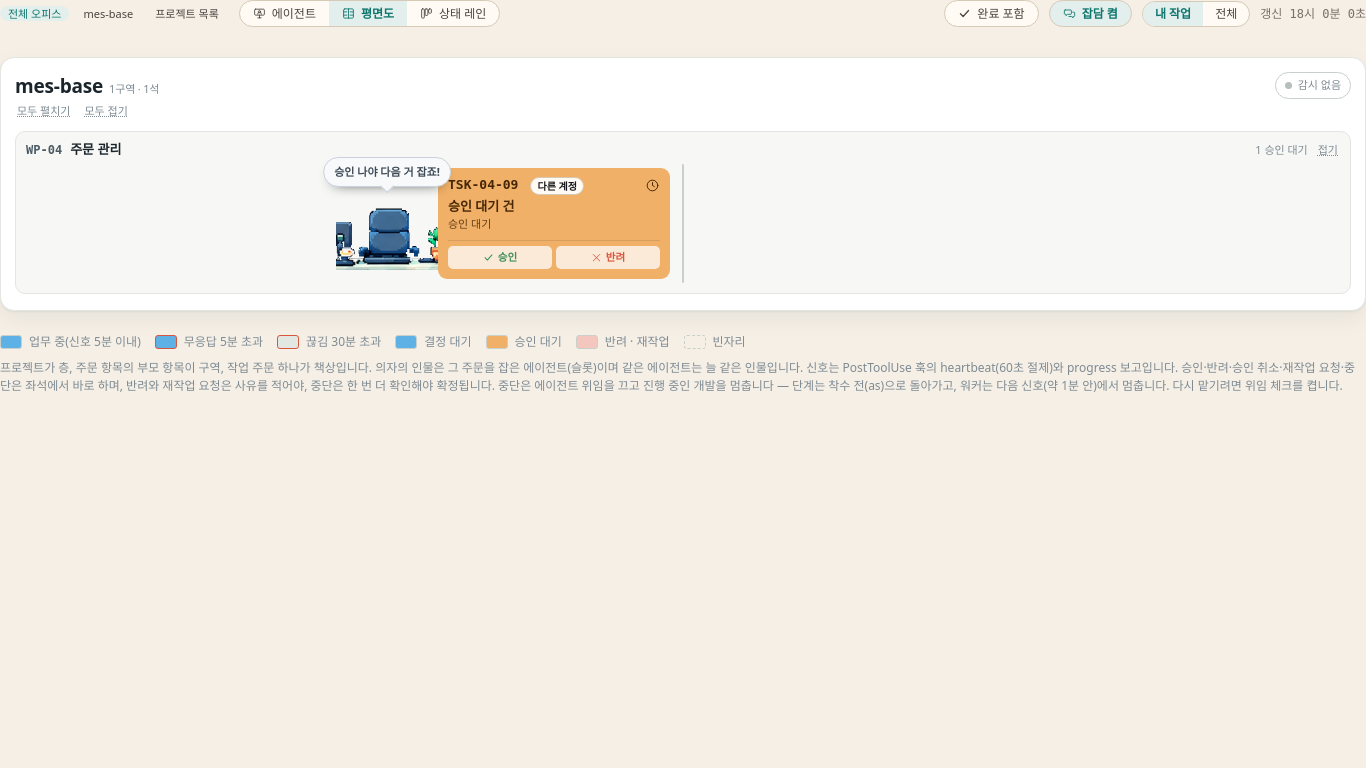
Scenario: SeatmapView — 좌석에서 바로 결재 › 반려는 사유를 받아야 하므로 상세 팝업을 열고, 곧바로 서버를 부르지 않는다
Click the button "반려". click: click(608, 257)
box: [556,246,660,269]
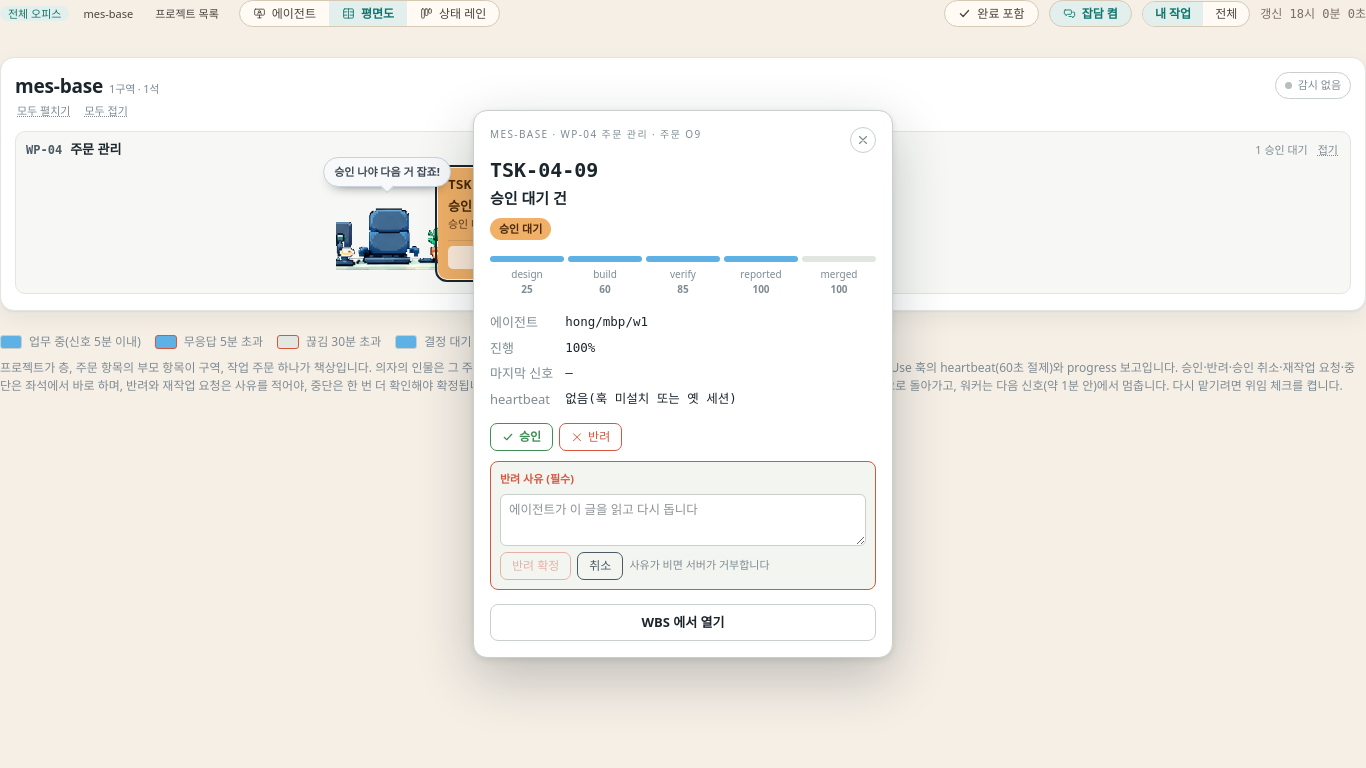
Now the text box labelled "반려 사유 (필수)" is shown, box [500,494,866,546]
